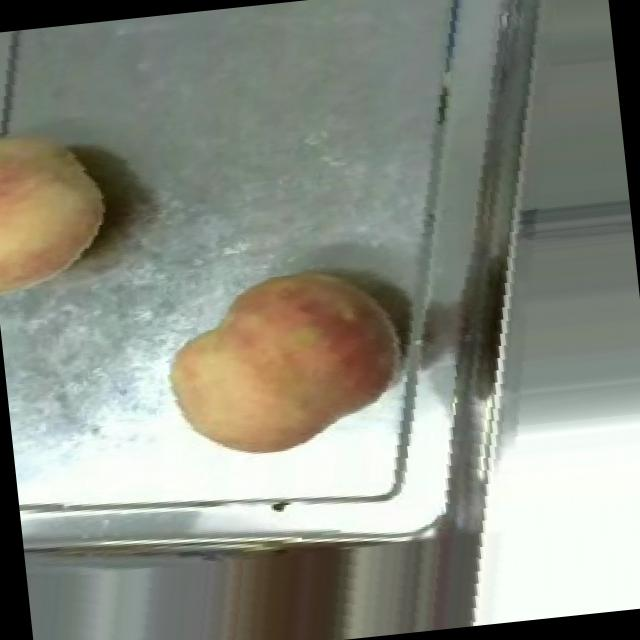Fruit: (148, 243, 424, 475), (0, 94, 136, 313)
